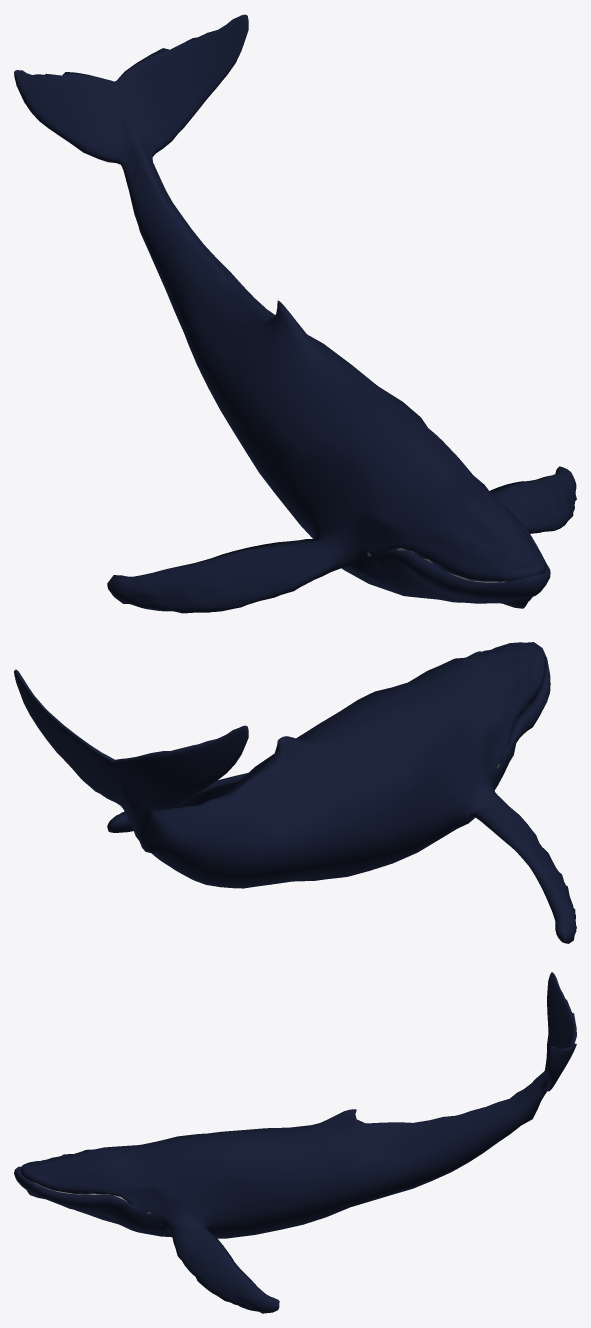
File: whale_animation01.obj
3 renders of one model, top to bottom at view 1: azimuth 30°, elevation 25°; view 2: azimuth 150°, elevation 25°; view 3: azimuth 270°, elevation 25°, orthographic. The views are drawn at different scales.
Visible parts, largest first — view 1: Whale; view 2: Whale; view 3: Whale.
Boxes of the visible parts, bbox=[...] form: Whale: bbox=[14, 14, 576, 613]; Whale: bbox=[14, 642, 576, 943]; Whale: bbox=[14, 972, 576, 1313].
Size of the model in its own units: 10.69 by 7.72 by 17.
